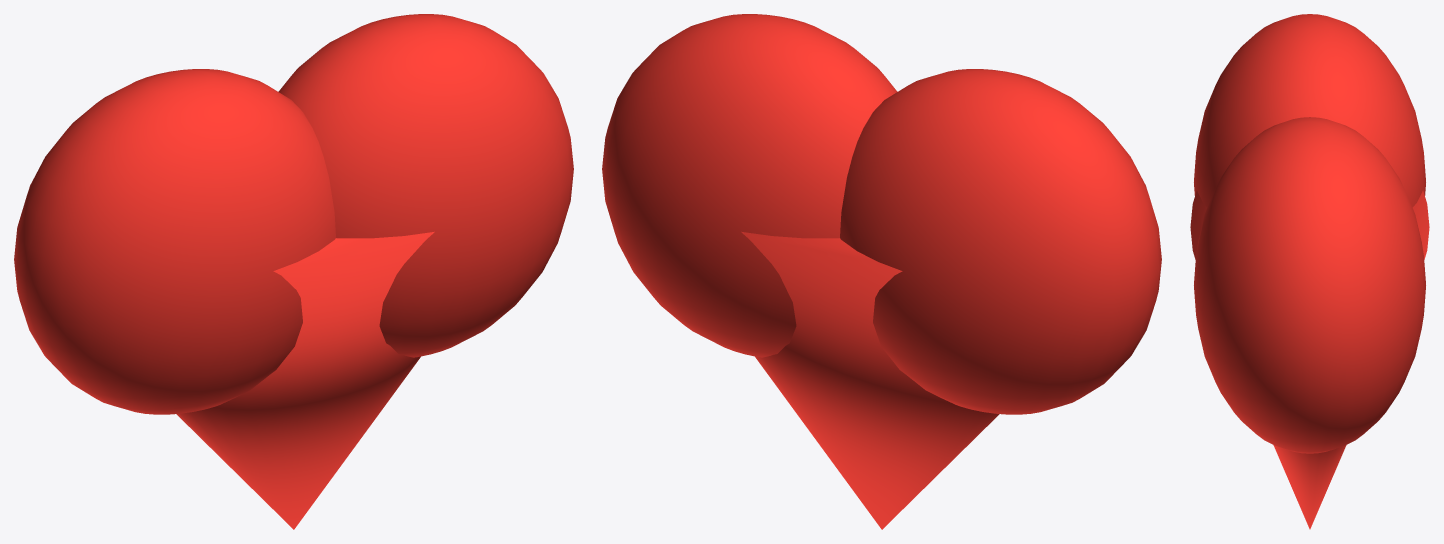
The model's file is heart.glb.
3 views of the same model, side by side, from view 1: azimuth 30°, elevation 25°; view 2: azimuth 150°, elevation 25°; view 3: azimuth 270°, elevation 25° (orthographic). The views are drawn at different scales.
Parts seen in each view (by area): view 1: heart_Body; view 2: heart_Body; view 3: heart_Body.
Part boxes in pixels (left/top/right/bottom): heart_Body: left=14, top=14, right=573, bottom=529; heart_Body: left=602, top=14, right=1161, bottom=529; heart_Body: left=1190, top=14, right=1429, bottom=529.
Bounding box in the file's own units: 2 × 1.7 × 0.8232.
